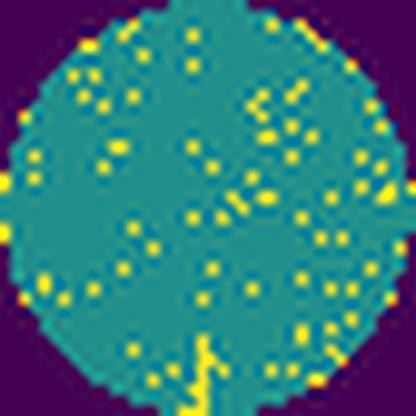Scratch: (175, 334, 233, 416)
